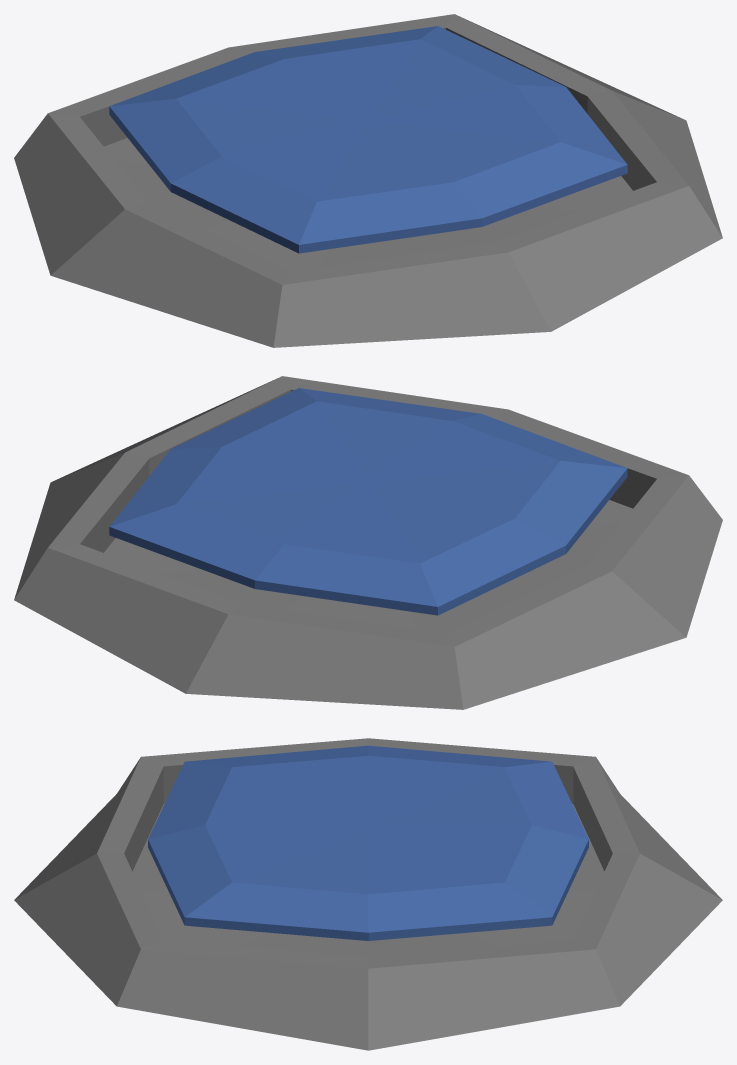
The model's file is SqueareButton2.fbx.
3 views of the same model, one above another, from view 1: azimuth 30°, elevation 25°; view 2: azimuth 150°, elevation 25°; view 3: azimuth 270°, elevation 25° (orthographic). The views are drawn at different scales.
Visible parts, largest first — view 1: Base.003, Button; view 2: Base.003, Button; view 3: Base.003, Button.
Part boxes in pixels (x1=…): Base.003: x1=14, y1=14, x2=722, y2=347; Button: x1=109, y1=26, x2=627, y2=253; Base.003: x1=14, y1=376, x2=722, y2=709; Button: x1=109, y1=388, x2=627, y2=615; Base.003: x1=14, y1=738, x2=722, y2=1050; Button: x1=148, y1=745, x2=588, y2=940.
Size of the model in its own units: 154 by 17.94 by 153.
